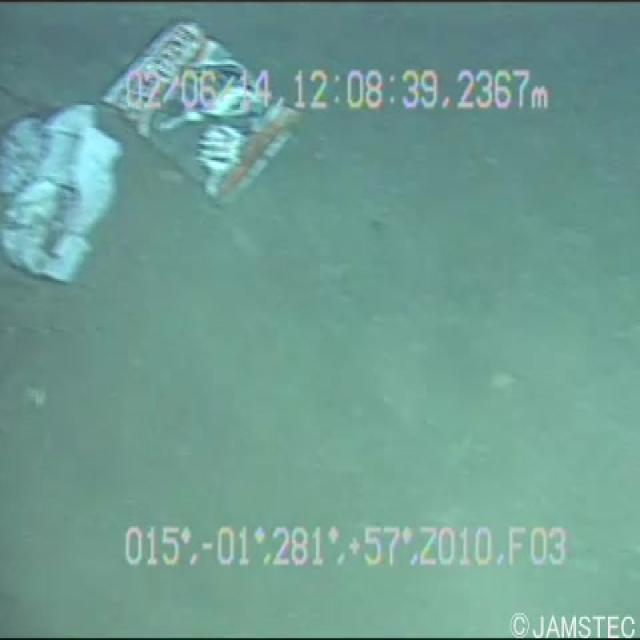plastic: (95, 7, 302, 213), (0, 63, 121, 300)
